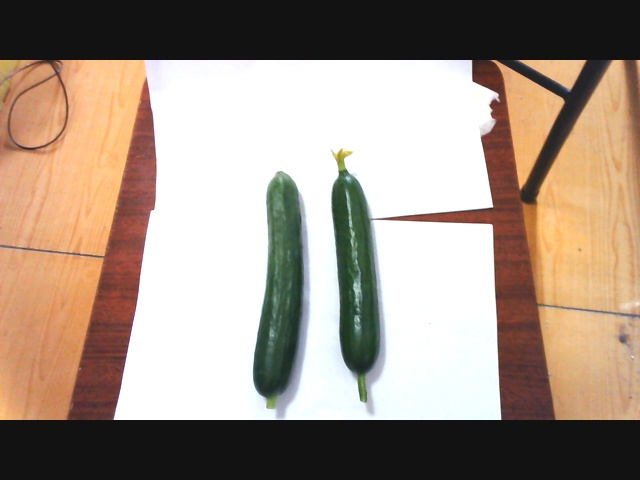cucumber: (322, 152, 392, 408), (248, 168, 306, 401)
